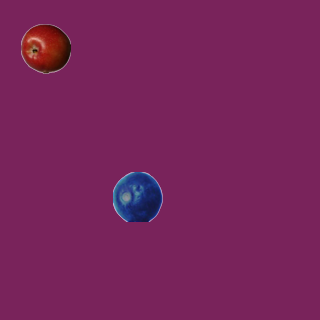Apple Braeburn: (20, 23, 70, 73)
Huckleberry: (112, 171, 162, 221)
